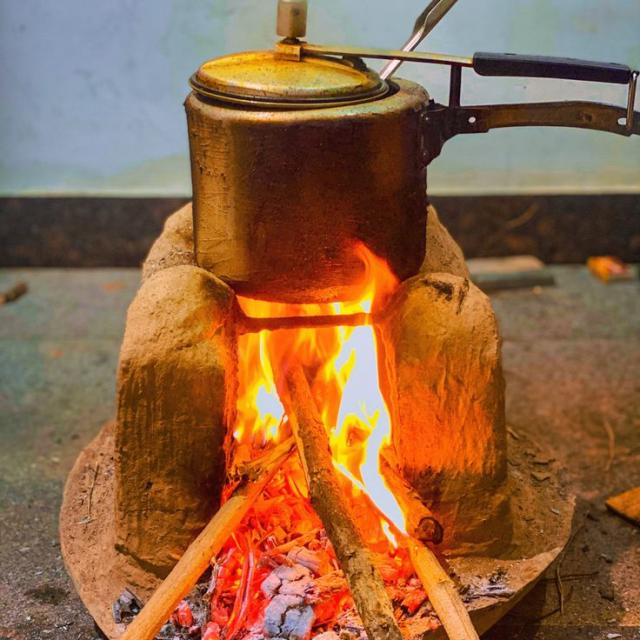fire: (323, 241, 406, 534), (235, 301, 285, 442), (292, 304, 328, 364)
